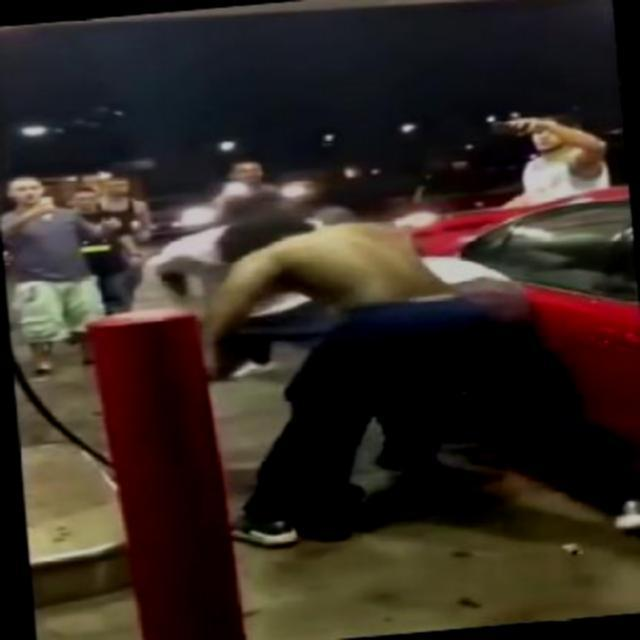fight: (196, 193, 558, 552)
non-fight: (0, 168, 143, 374), (487, 107, 616, 207)
